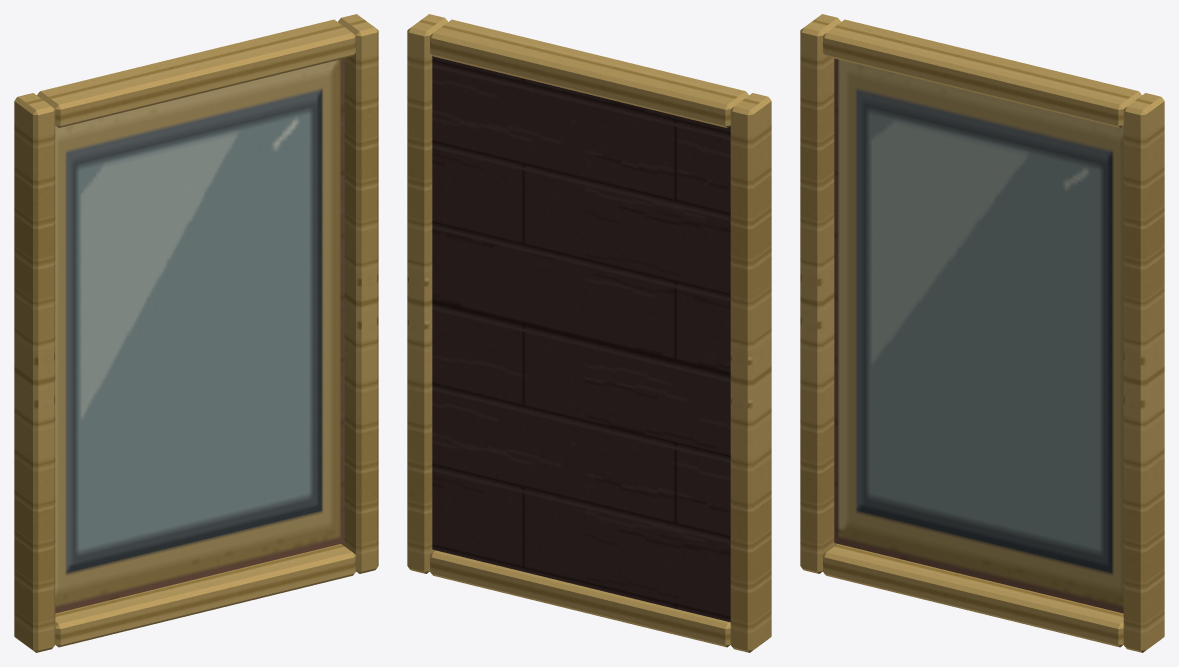
Rendered from MD_82_FullMirror.fbx.
The picture shows the model from 3 angles, left to right: view 1: azimuth 30°, elevation 25°; view 2: azimuth 150°, elevation 25°; view 3: azimuth 330°, elevation 25°; orthographic projection.
Visible parts, largest first — view 1: MD_82_FullMirror_mirror_inset, MD_82_FullMirror_mirror_upright, MD_82_FullMirror_mirror_upright.001, MD_82_FullMirror_mirror_cross.001, MD_82_FullMirror_mirror_cross; view 2: MD_82_FullMirror_mirror_inset, MD_82_FullMirror_mirror_upright, MD_82_FullMirror_mirror_upright.001, MD_82_FullMirror_mirror_cross.001, MD_82_FullMirror_mirror_cross; view 3: MD_82_FullMirror_mirror_inset, MD_82_FullMirror_mirror_upright.001, MD_82_FullMirror_mirror_upright, MD_82_FullMirror_mirror_cross.001, MD_82_FullMirror_mirror_cross.
Boxes of the visible parts, x1,y1,x2,y2 form: MD_82_FullMirror_mirror_inset: [55, 58, 344, 613]; MD_82_FullMirror_mirror_upright: [14, 93, 55, 652]; MD_82_FullMirror_mirror_upright.001: [338, 14, 378, 573]; MD_82_FullMirror_mirror_cross.001: [37, 19, 355, 127]; MD_82_FullMirror_mirror_cross: [55, 544, 355, 647]; MD_82_FullMirror_mirror_inset: [432, 56, 730, 622]; MD_82_FullMirror_mirror_upright: [730, 93, 771, 652]; MD_82_FullMirror_mirror_upright.001: [407, 14, 447, 573]; MD_82_FullMirror_mirror_cross.001: [430, 19, 748, 127]; MD_82_FullMirror_mirror_cross: [430, 550, 730, 647]; MD_82_FullMirror_mirror_inset: [834, 58, 1123, 613]; MD_82_FullMirror_mirror_upright.001: [1123, 93, 1164, 652]; MD_82_FullMirror_mirror_upright: [800, 14, 840, 573]; MD_82_FullMirror_mirror_cross.001: [823, 19, 1141, 127]; MD_82_FullMirror_mirror_cross: [823, 544, 1123, 647].
Bounding box in the file's own units: 0.8 × 1.2 × 0.09.
3 materials, 3 textured.
